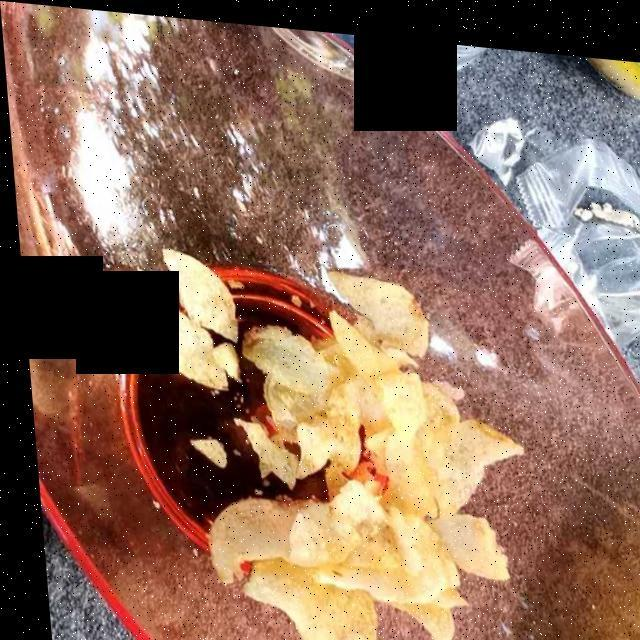crisps: (131, 250, 501, 640)
